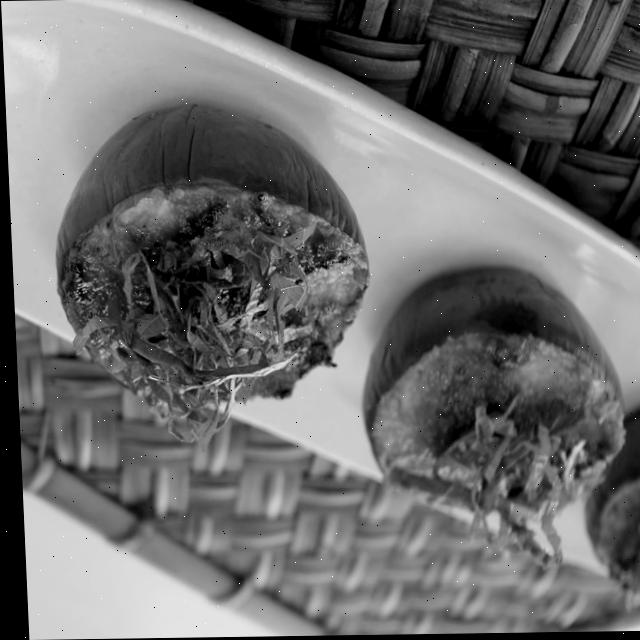鸡蛋料理: (49, 83, 640, 639)
